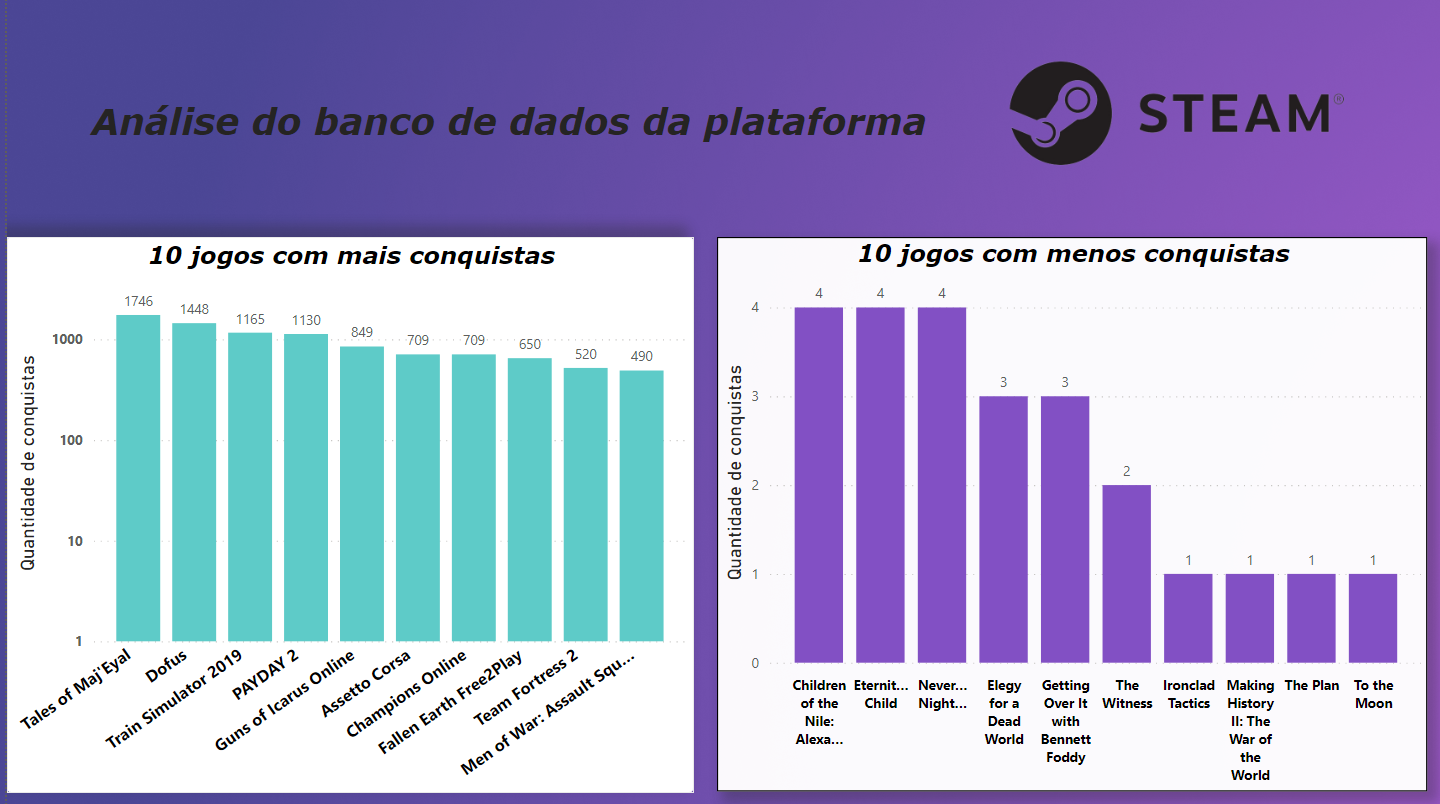

The page's visual inventory and layout, read from the dashboard file:
{"tool":"powerbi","page":{"name":"Jogos com mais e menos conquistas","canvas":[1280,720],"ordinal":6},"visuals":[{"type":"clusteredColumnChart","title":"10 jogos com mais conquistas","fields":{"Category":["bdsteam steam_dados.nome"],"Y":["Sum(bdsteam steam_dados.conquistas)"]},"box":[0,215,608.1,492.2],"z":0},{"type":"clusteredColumnChart","title":"10 jogos com menos conquistas","fields":{"Category":["bdsteam steam_dados.nome"],"Y":["Sum(bdsteam steam_dados.conquistas)"]},"box":[629,215.6,629.5,491],"z":1000},{"type":"image","box":[856.4,39.9,357.8,121.3],"z":2000},{"type":"textbox","box":[41.6,87.7,805.9,52.3],"z":3000}]}

Visuals, with their boxes in screenshot pixels (x1, y1, x2, y2), scaled from the page's 1280x720 canvas onto the 1440x804 screenshot:
"10 jogos com mais conquistas" clusteredColumnChart: select_region(0, 240, 684, 790)
"10 jogos com menos conquistas" clusteredColumnChart: select_region(708, 241, 1416, 789)
image: select_region(963, 45, 1366, 180)
textbox: select_region(47, 98, 953, 156)
